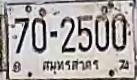0: (111, 12, 127, 50), (94, 14, 109, 51), (31, 18, 46, 52)
2: (60, 16, 75, 52)
5: (76, 14, 92, 52)
7: (14, 17, 29, 53)
SKN: (39, 58, 101, 74)
